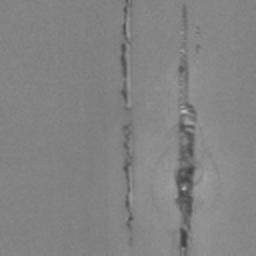Slag inclusion: (174, 3, 200, 256), (120, 124, 136, 234), (118, 0, 132, 114)
